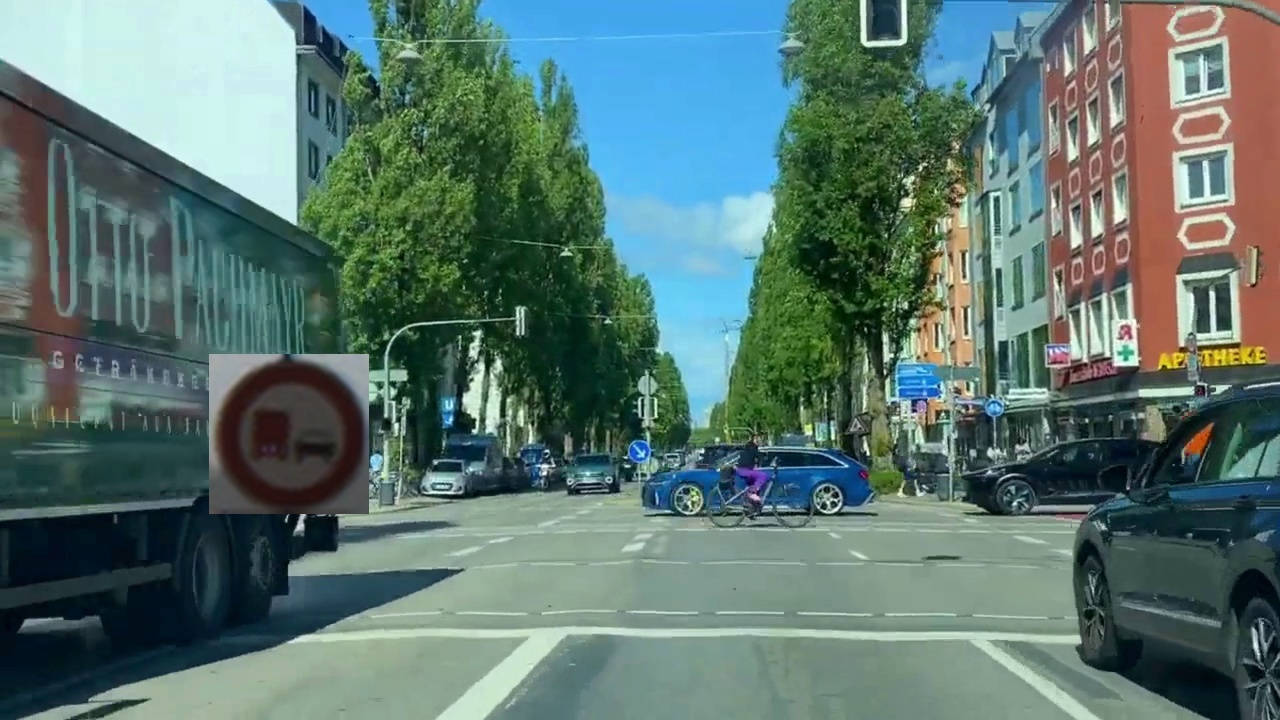No pass >3.5t: (209, 354, 369, 514)
